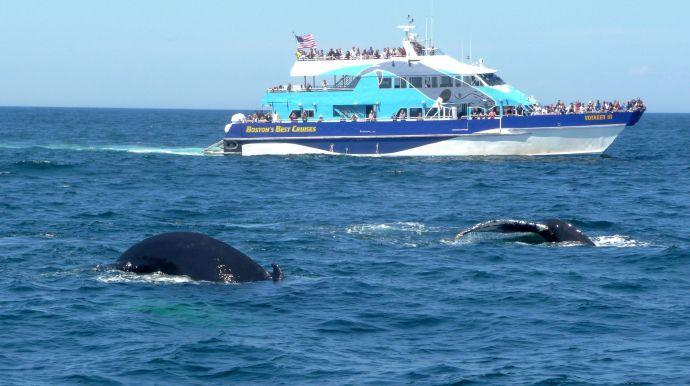fish: (450, 203, 610, 254)
yacht: (214, 25, 649, 164)
